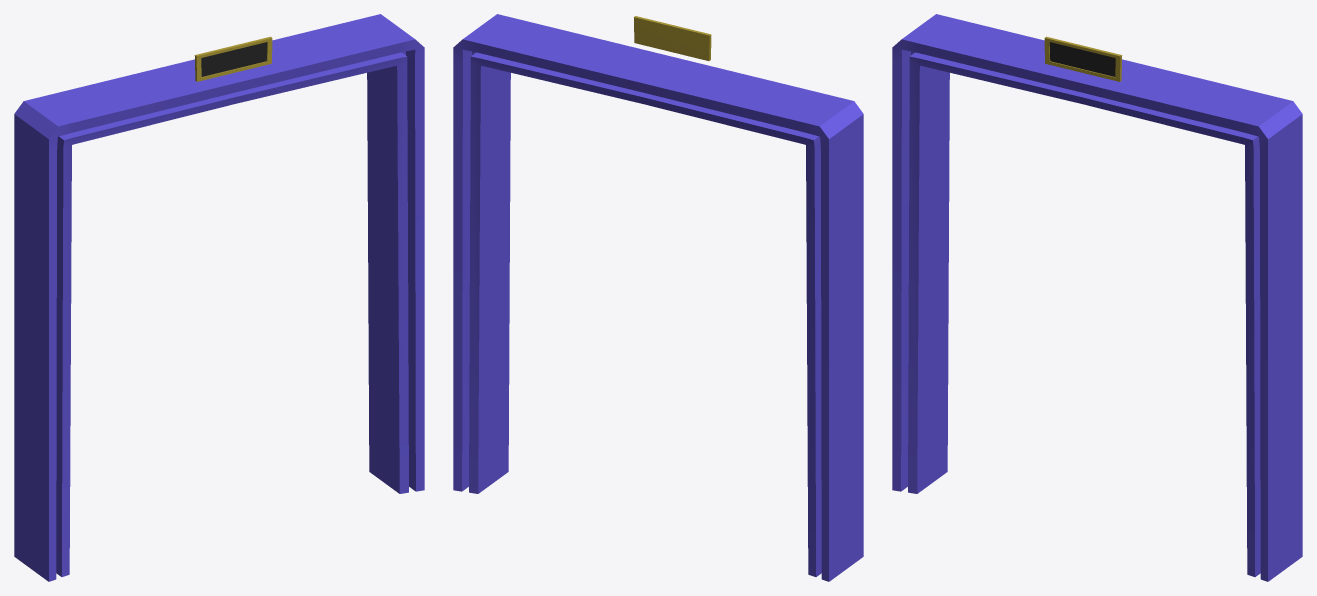
The model's file is Elevator Front.fbx.
3 renders of one model, left to right at view 1: azimuth 30°, elevation 25°; view 2: azimuth 150°, elevation 25°; view 3: azimuth 330°, elevation 25°, orthographic.
Visible parts, largest first — view 1: Elevator Front NEU, Elevator Front Display NEU; view 2: Elevator Front NEU, Elevator Front Display NEU; view 3: Elevator Front NEU, Elevator Front Display NEU.
Part boxes in pixels (<box>): Elevator Front NEU: <box>14,14,424,581</box>; Elevator Front Display NEU: <box>194,36,272,81</box>; Elevator Front NEU: <box>453,14,863,581</box>; Elevator Front Display NEU: <box>634,16,711,60</box>; Elevator Front NEU: <box>892,14,1302,581</box>; Elevator Front Display NEU: <box>1044,36,1122,81</box>.
Bounding box in the file's own units: 228 × 283 × 36.42.
